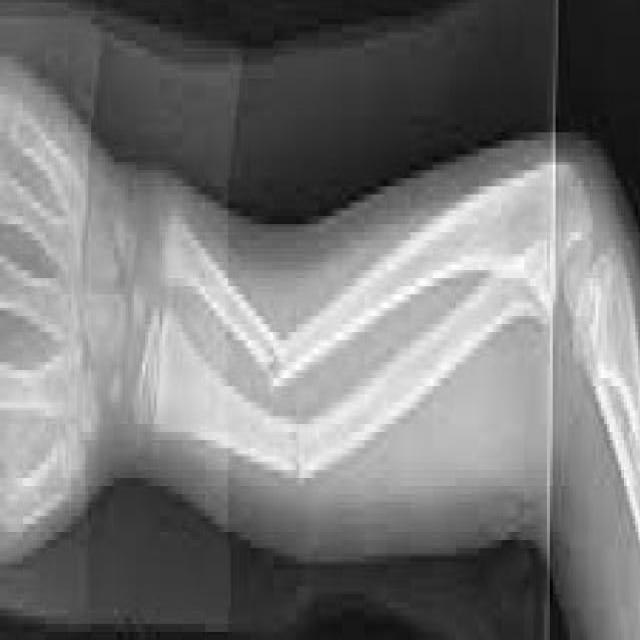Greenstick: (240, 277, 318, 520)
